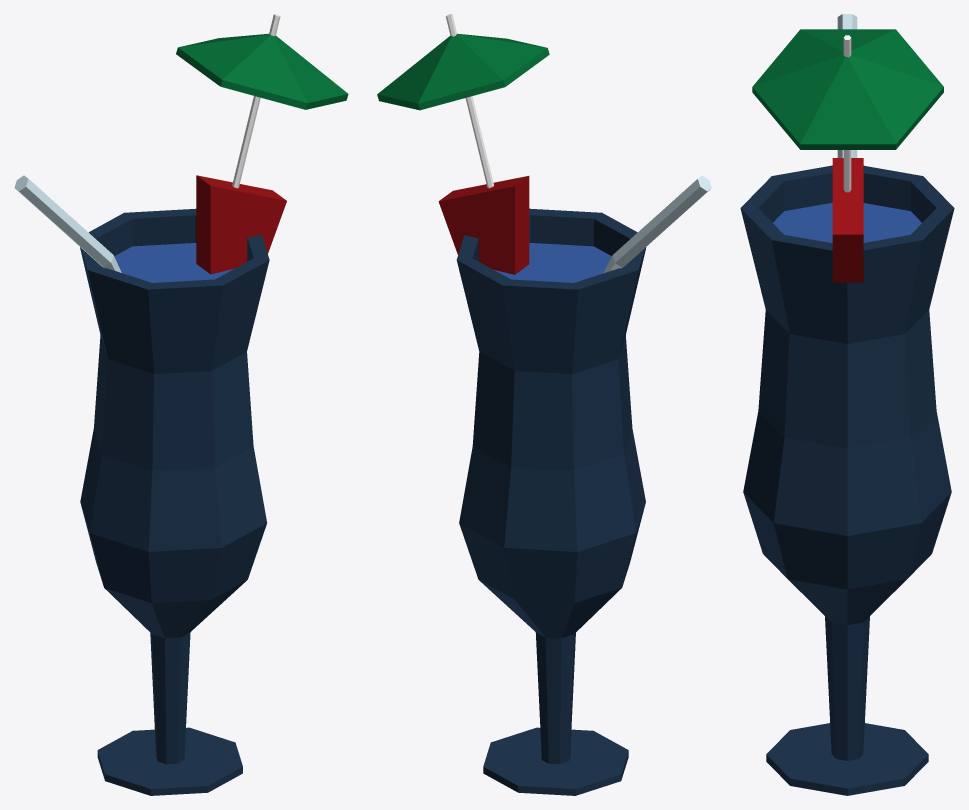
The model's file is Cocktail.fbx.
The picture shows the model from 3 angles, left to right: view 1: azimuth 30°, elevation 25°; view 2: azimuth 150°, elevation 25°; view 3: azimuth 270°, elevation 25°; orthographic projection. The views are drawn at different scales.
Parts seen in each view (by area): view 1: Beachgoer_F_Cocktail; view 2: Beachgoer_F_Cocktail; view 3: Beachgoer_F_Cocktail.
Boxes of the visible parts, x1,y1,x2,y2 form: Beachgoer_F_Cocktail: (14, 14, 348, 795); Beachgoer_F_Cocktail: (377, 14, 711, 795); Beachgoer_F_Cocktail: (740, 14, 954, 795).
Bounding box in the file's own units: 10.97 × 24.5 × 6.08.
